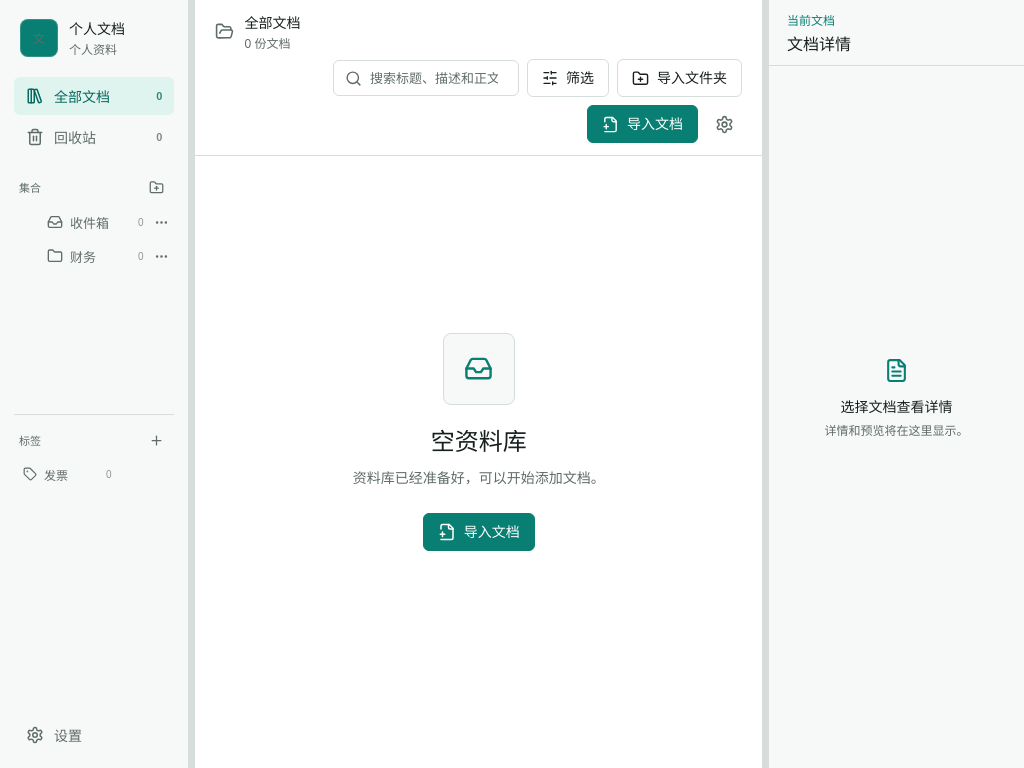
it: App › opens the classification rules and receive directory panels from settings
expect the heading "空资料库" is shown: met, box [431,427,527,457]
Click the button "设置": (94, 735) [14,716,174,754]
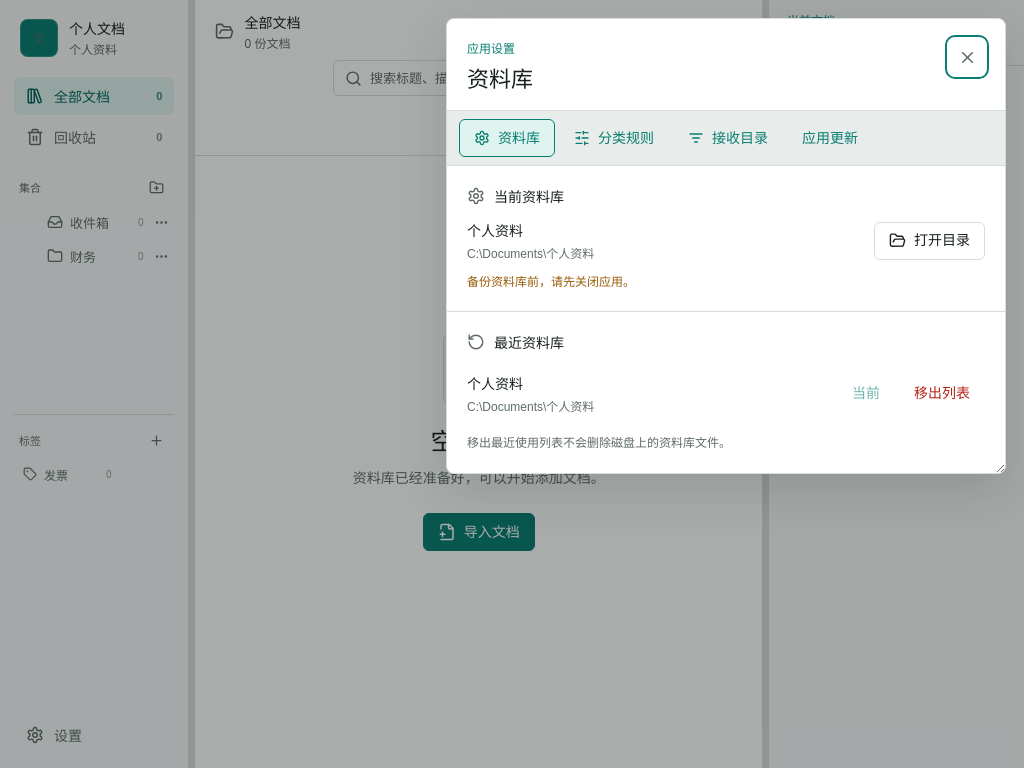
Note: 分类规则面板：显示已保存的规则及其目标集合。
Click the tab "分类规则": (614, 138) [559,119,669,157]
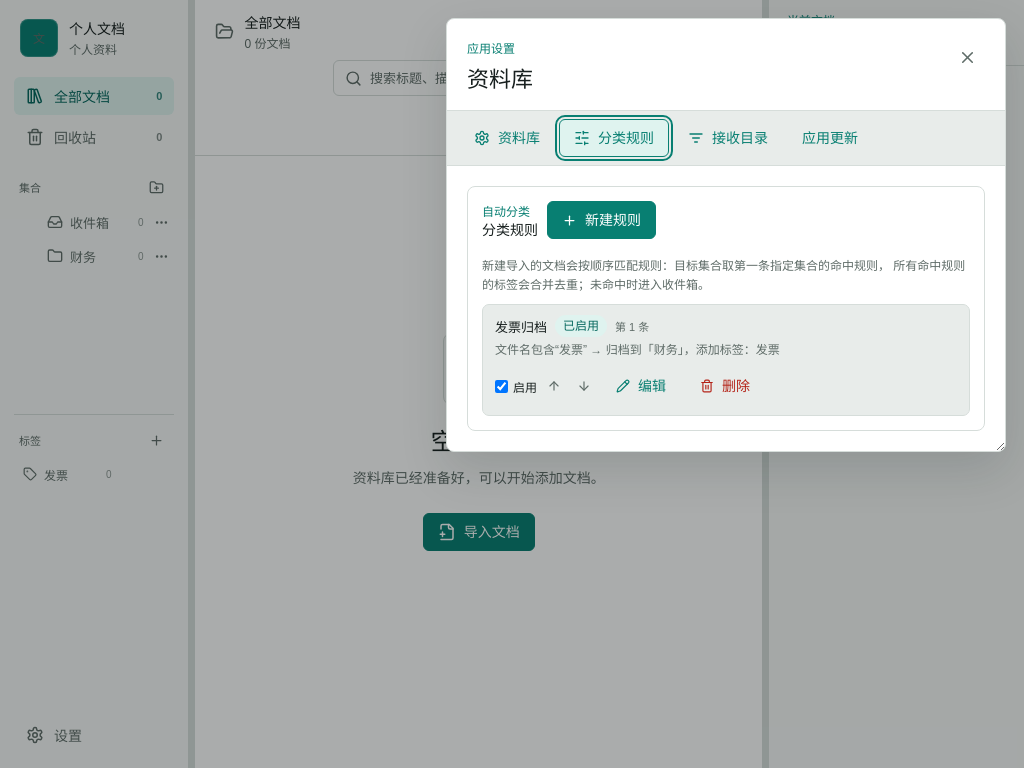
expect the heading "发票归档" is shown: met, box [495,317,547,336]
expect the text "文件名包含“发票” → 归档到「财务」，添加标签：发票" is shown: met, box [495,343,780,357]
Note: 接收目录面板：QQ 来源与已确认路径可见。
Click the tab "接收目录": (728, 138) [673,119,783,157]
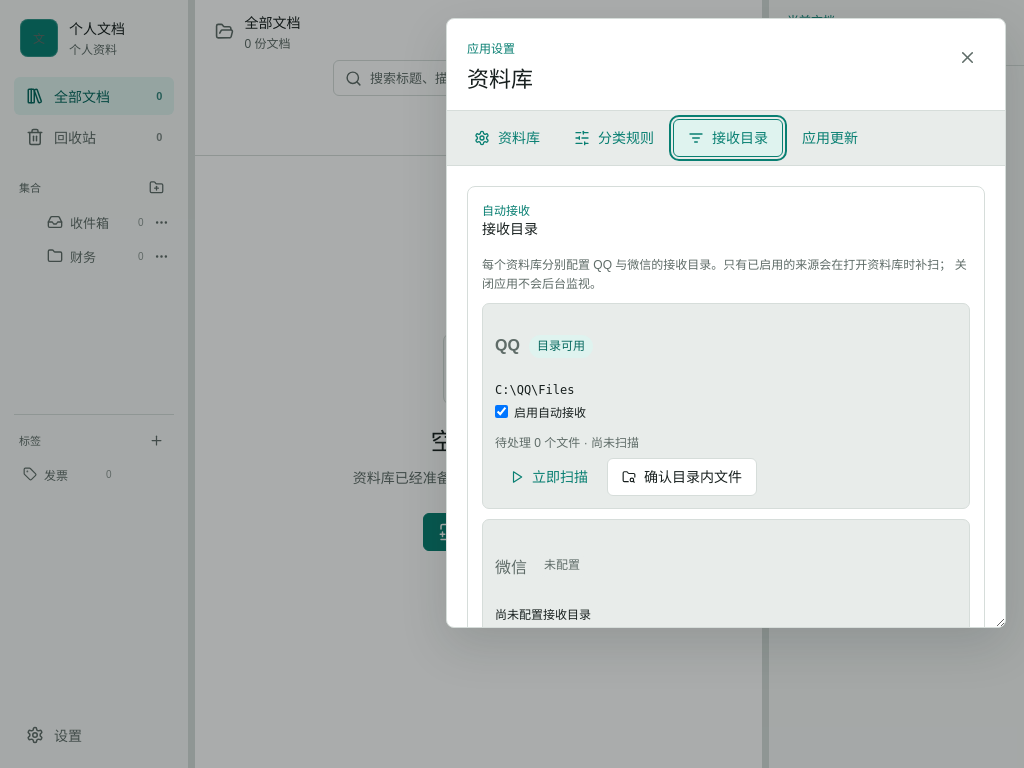
expect the heading "QQ" is shown: met, box [495,338,520,356]
expect the text "C:\\QQ\\Files" is shown: met, box [495,383,574,397]
Note: 回到资料库页签时不应残留其它面板。
Click the tab "资料库": (507, 138) [459,119,555,157]
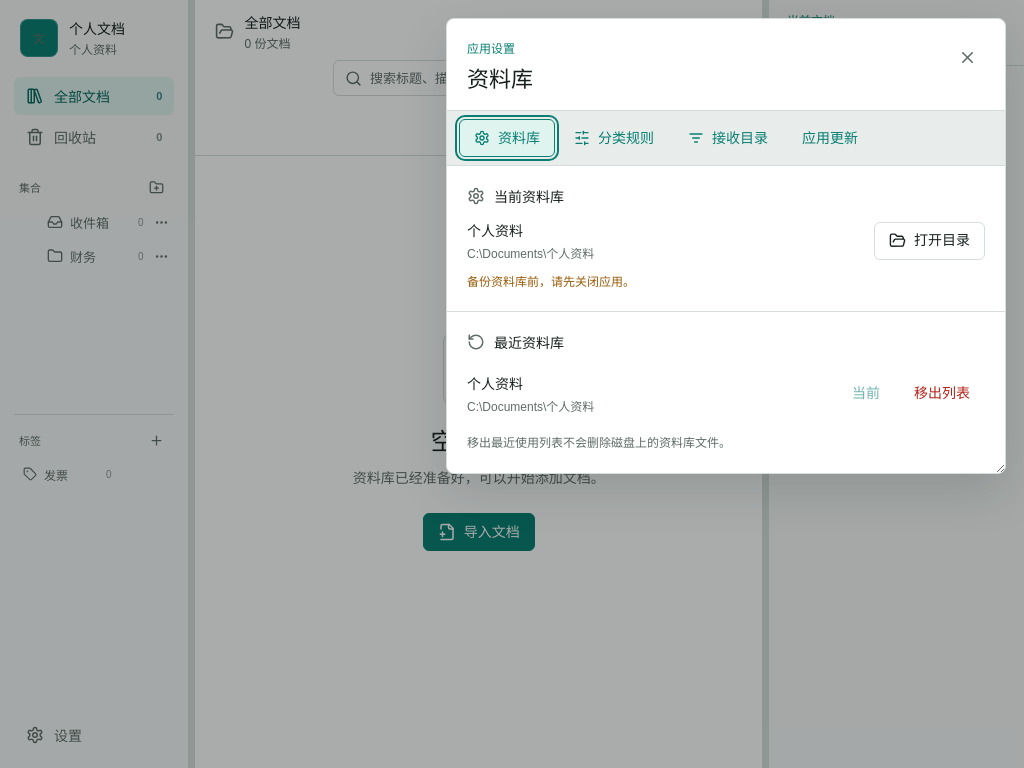
expect the heading "发票归档" is not shown: met
expect the text "C:\\QQ\\Files" is gone: met
